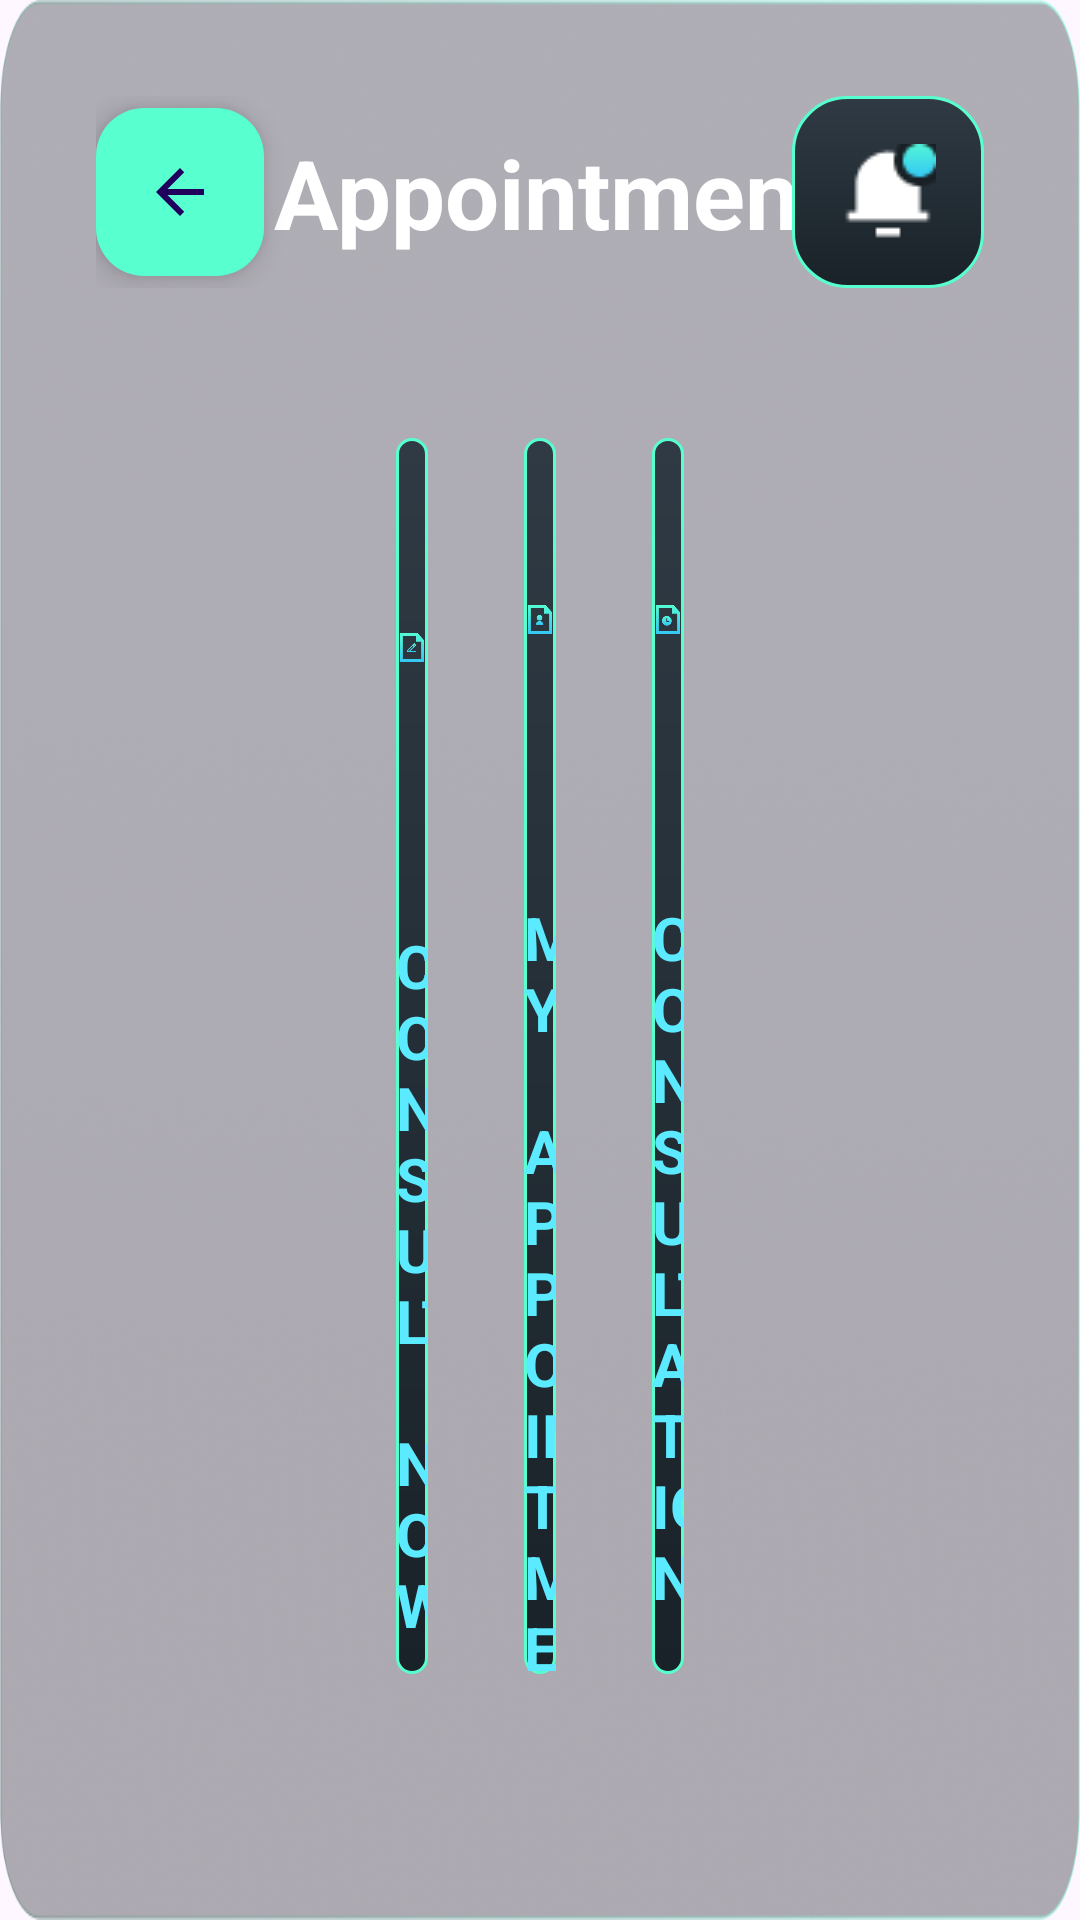

Icons on this 1080px x 1920px Android screen, each with the point to tap as [x,y]:
Back Button: [180,192]
notification: [890,191]
